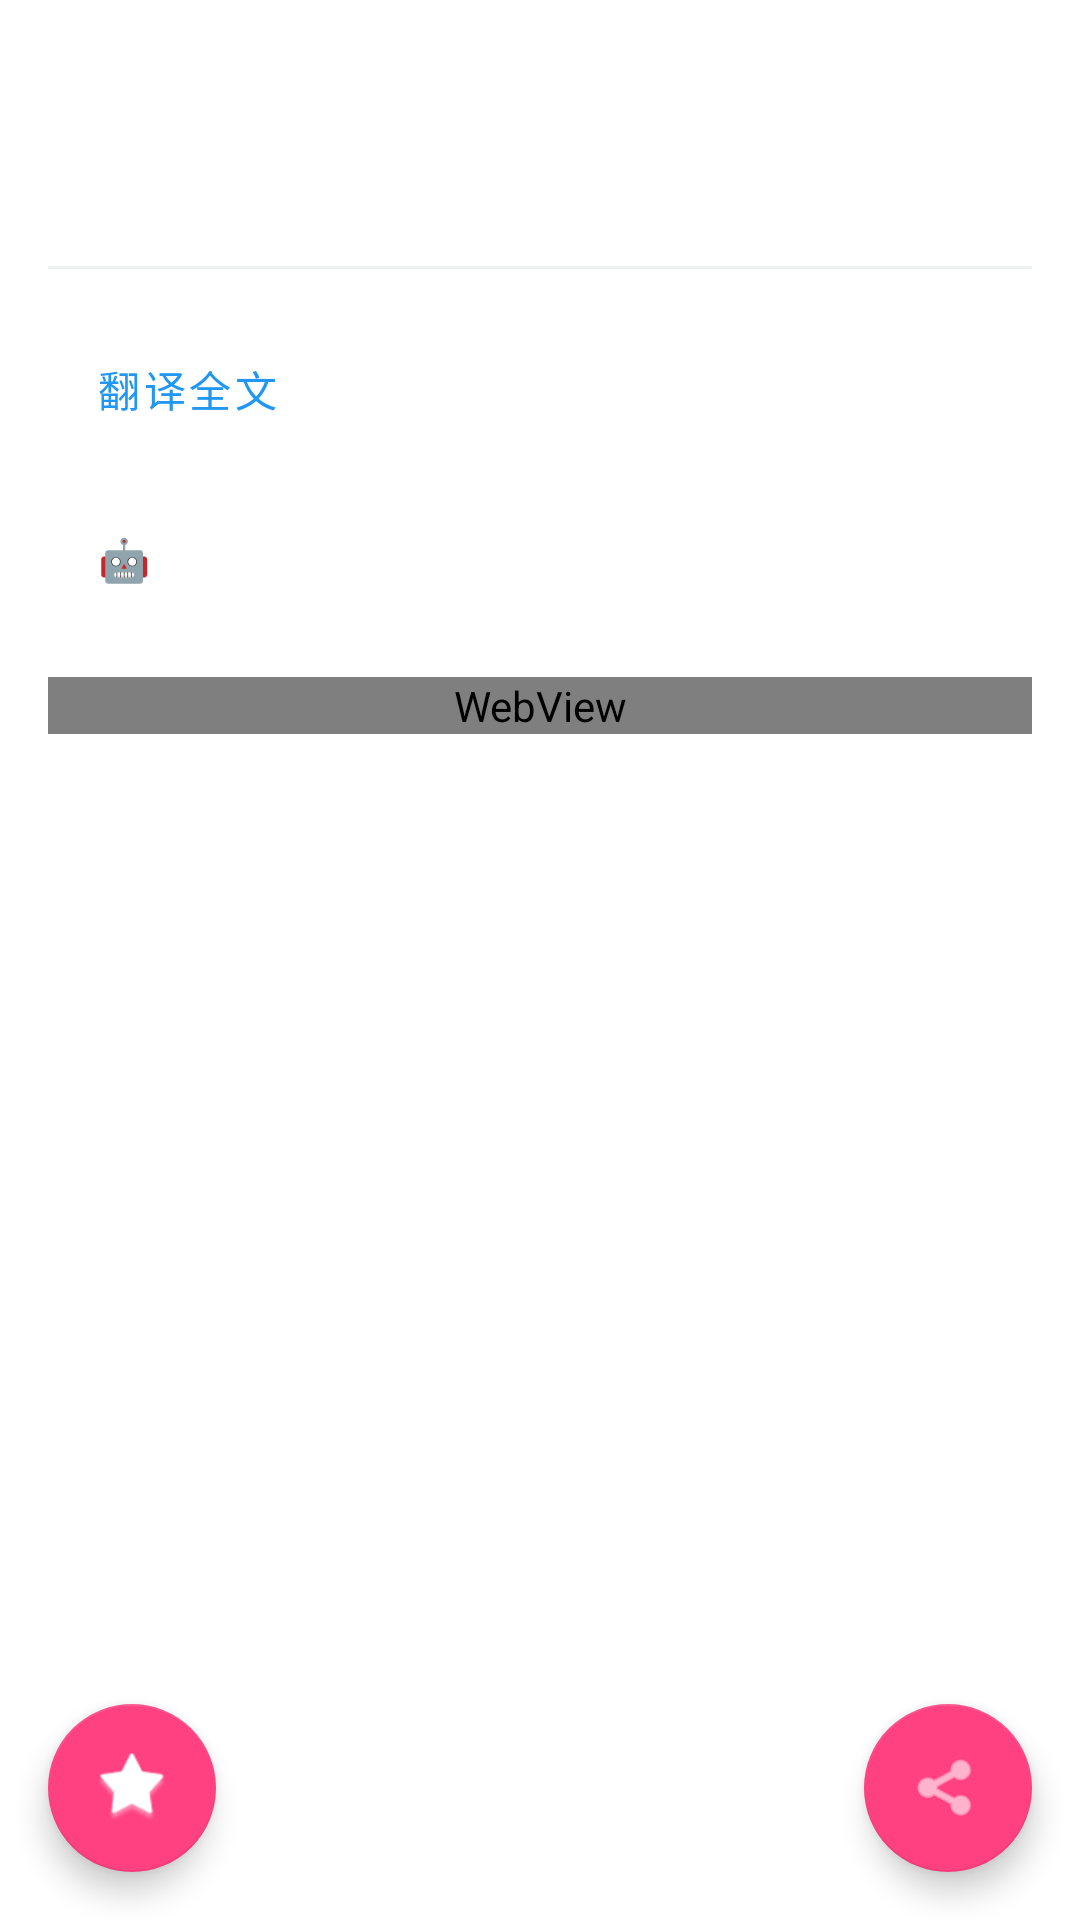

Icons on this 1080x1920 Android screen, each with the point to tap as [x,y]:
收藏: [132,1788]
